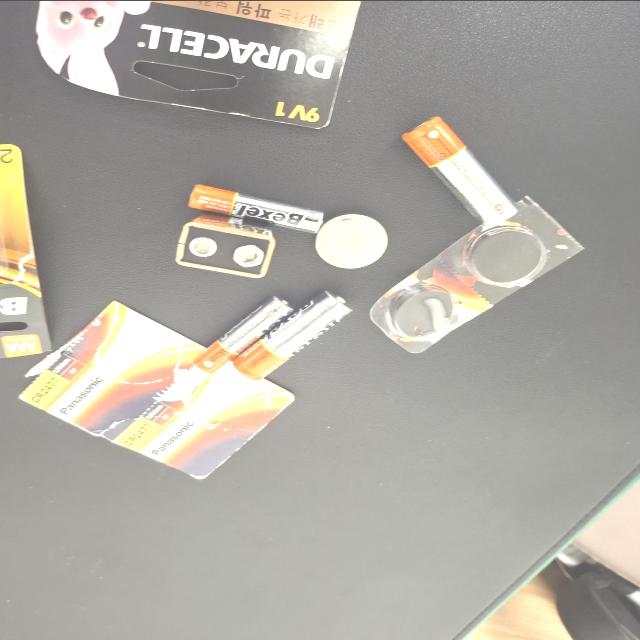9V: (484, 292, 574, 366)
AA: (348, 336, 466, 424), (554, 462, 640, 548)
AAA: (356, 306, 459, 380), (544, 302, 608, 402)
COIN: (497, 397, 569, 451)
